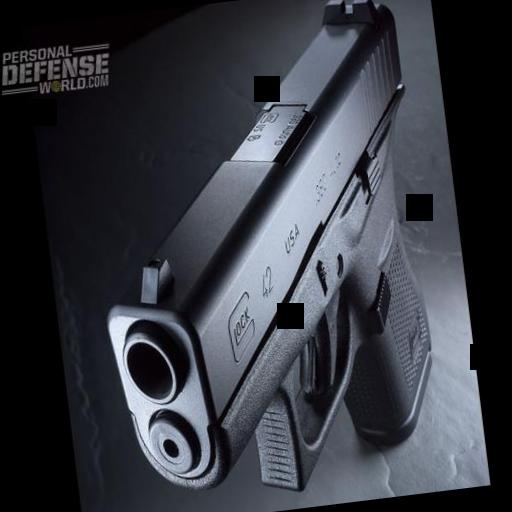Handgun: (75, 0, 452, 510)
